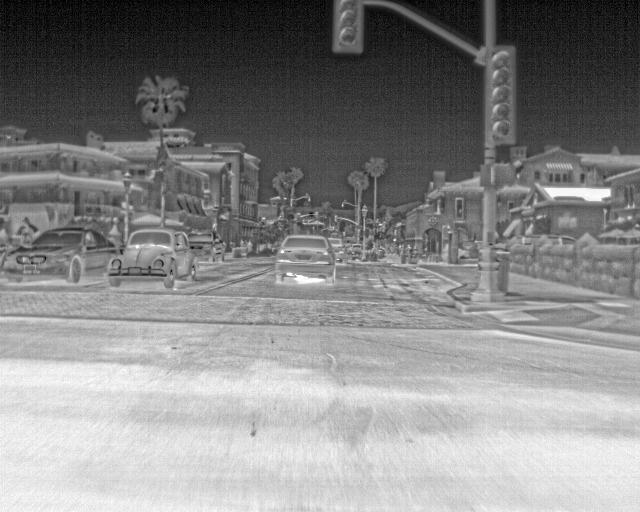bicycle: (2, 226, 119, 286), (108, 227, 195, 289), (272, 234, 334, 281), (186, 229, 228, 261), (328, 236, 347, 265)
